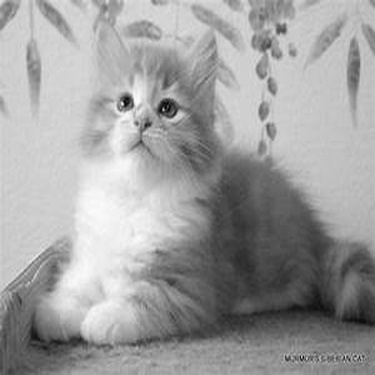cat: (33, 19, 370, 343)
